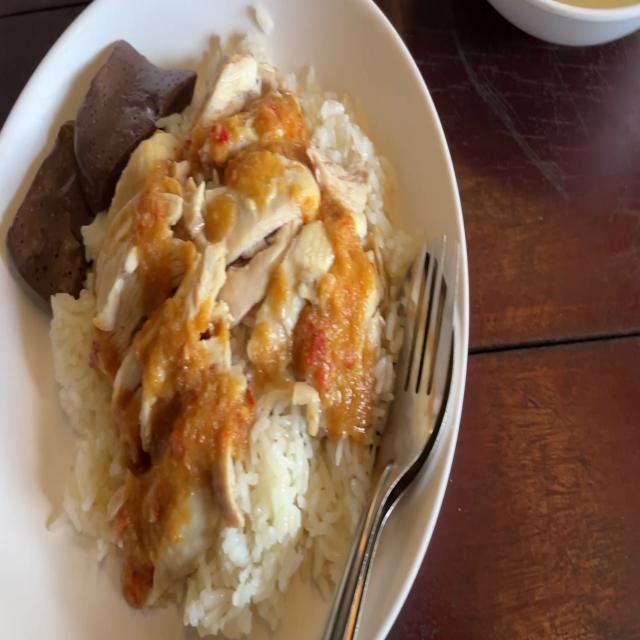boiled_chicken: (106, 83, 353, 489)
boiled_chicken_blood_jelly: (11, 120, 101, 301), (72, 50, 180, 178)
chicken_rice: (13, 10, 414, 625)
